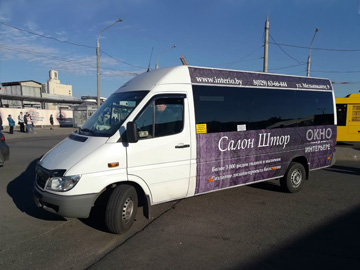van: (30, 64, 339, 233)
